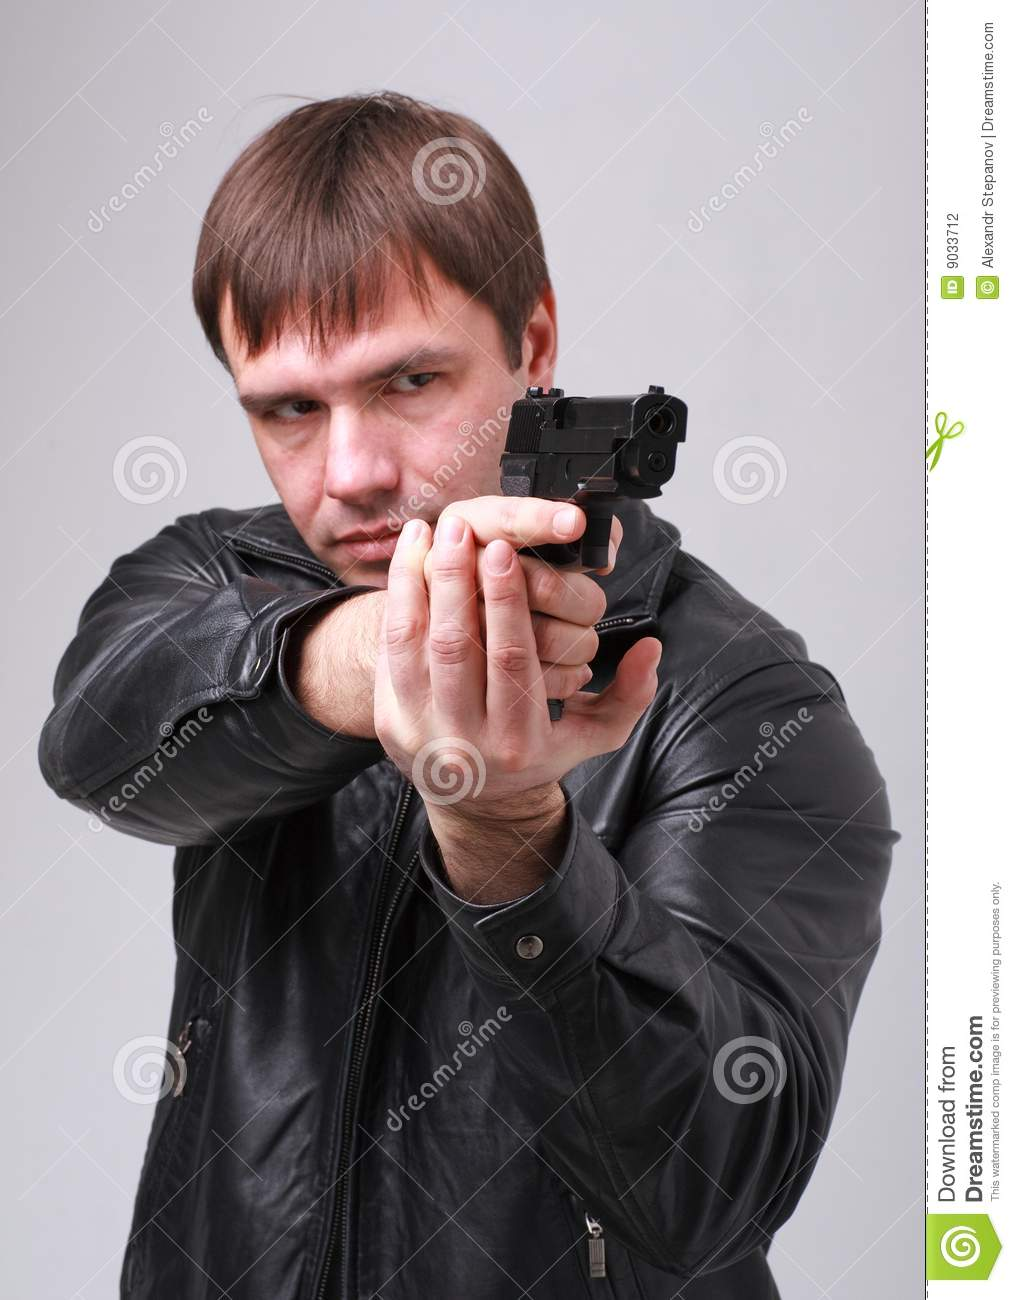pistol: (496, 380, 692, 572)
